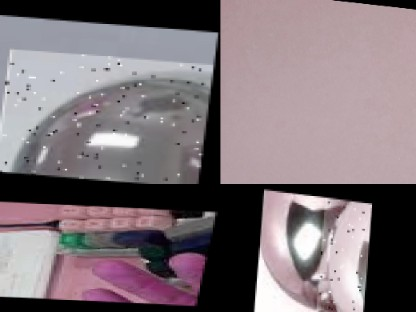ironball: (0, 47, 215, 184), (262, 191, 327, 310), (317, 194, 372, 311)
